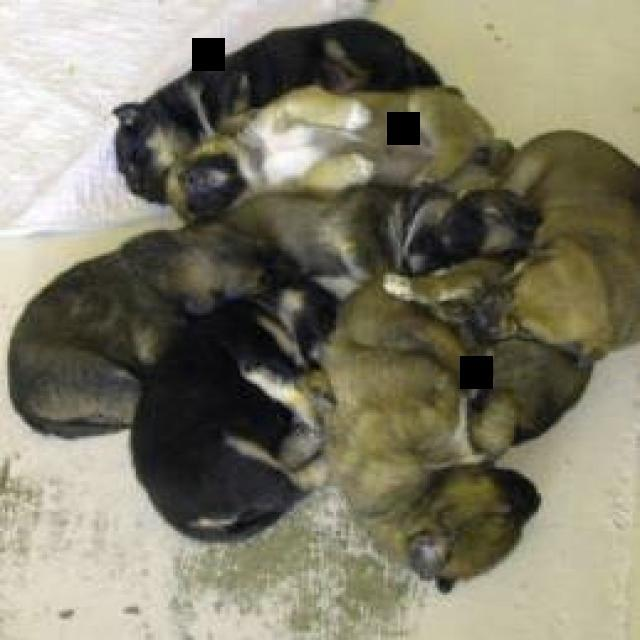puppy-dog: (5, 190, 407, 443), (322, 276, 597, 594), (111, 17, 448, 211), (382, 128, 640, 366), (128, 278, 346, 550), (166, 84, 514, 232)
